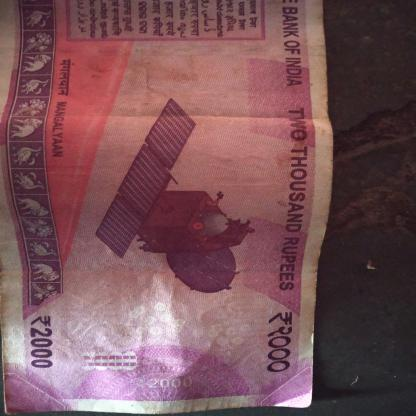New2000Back: (0, 0, 309, 416)
